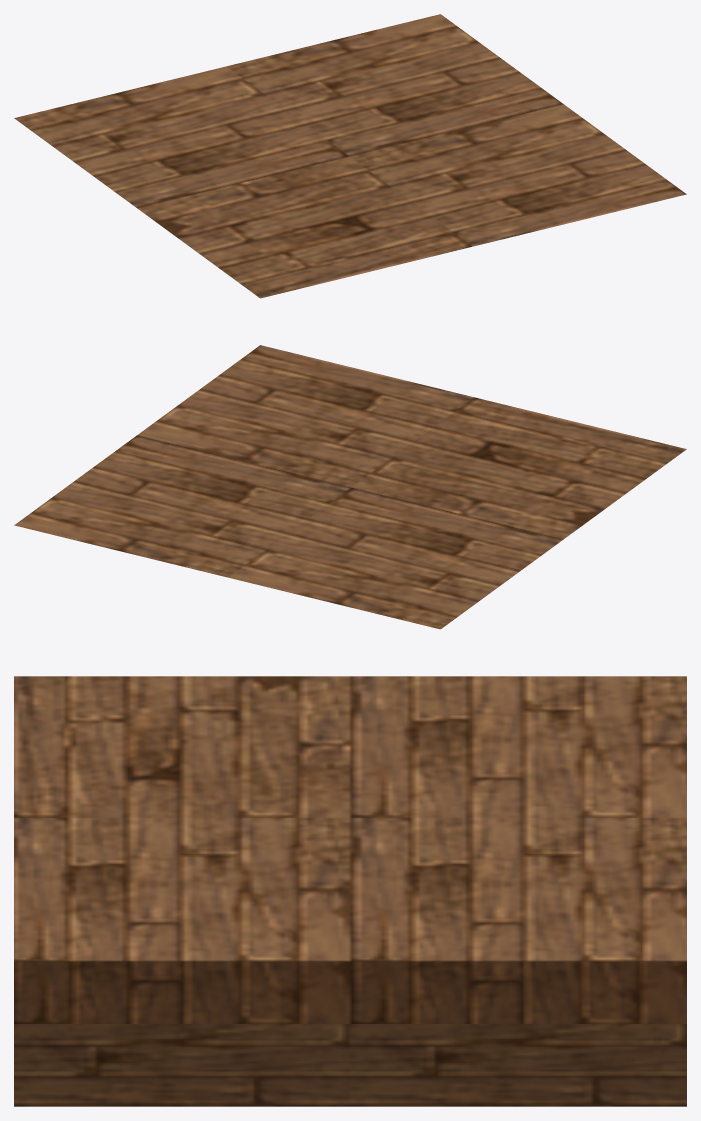
The model's file is a_SWGutile03.glb.
3 views of the same model, one above another, from view 1: azimuth 30°, elevation 25°; view 2: azimuth 150°, elevation 25°; view 3: azimuth 270°, elevation 25° (orthographic). The views are drawn at different scales.
Parts seen in each view (by area): view 1: a_SWGutile03; view 2: a_SWGutile03; view 3: a_SWGutile03.
Part boxes in pixels (bbox=[...]): a_SWGutile03: bbox=[14, 14, 686, 298]; a_SWGutile03: bbox=[14, 345, 686, 629]; a_SWGutile03: bbox=[14, 676, 686, 1106].
Size of the model in its own units: 2 by 0.5254 by 2.
Materials: 1 (1 with a texture image).
